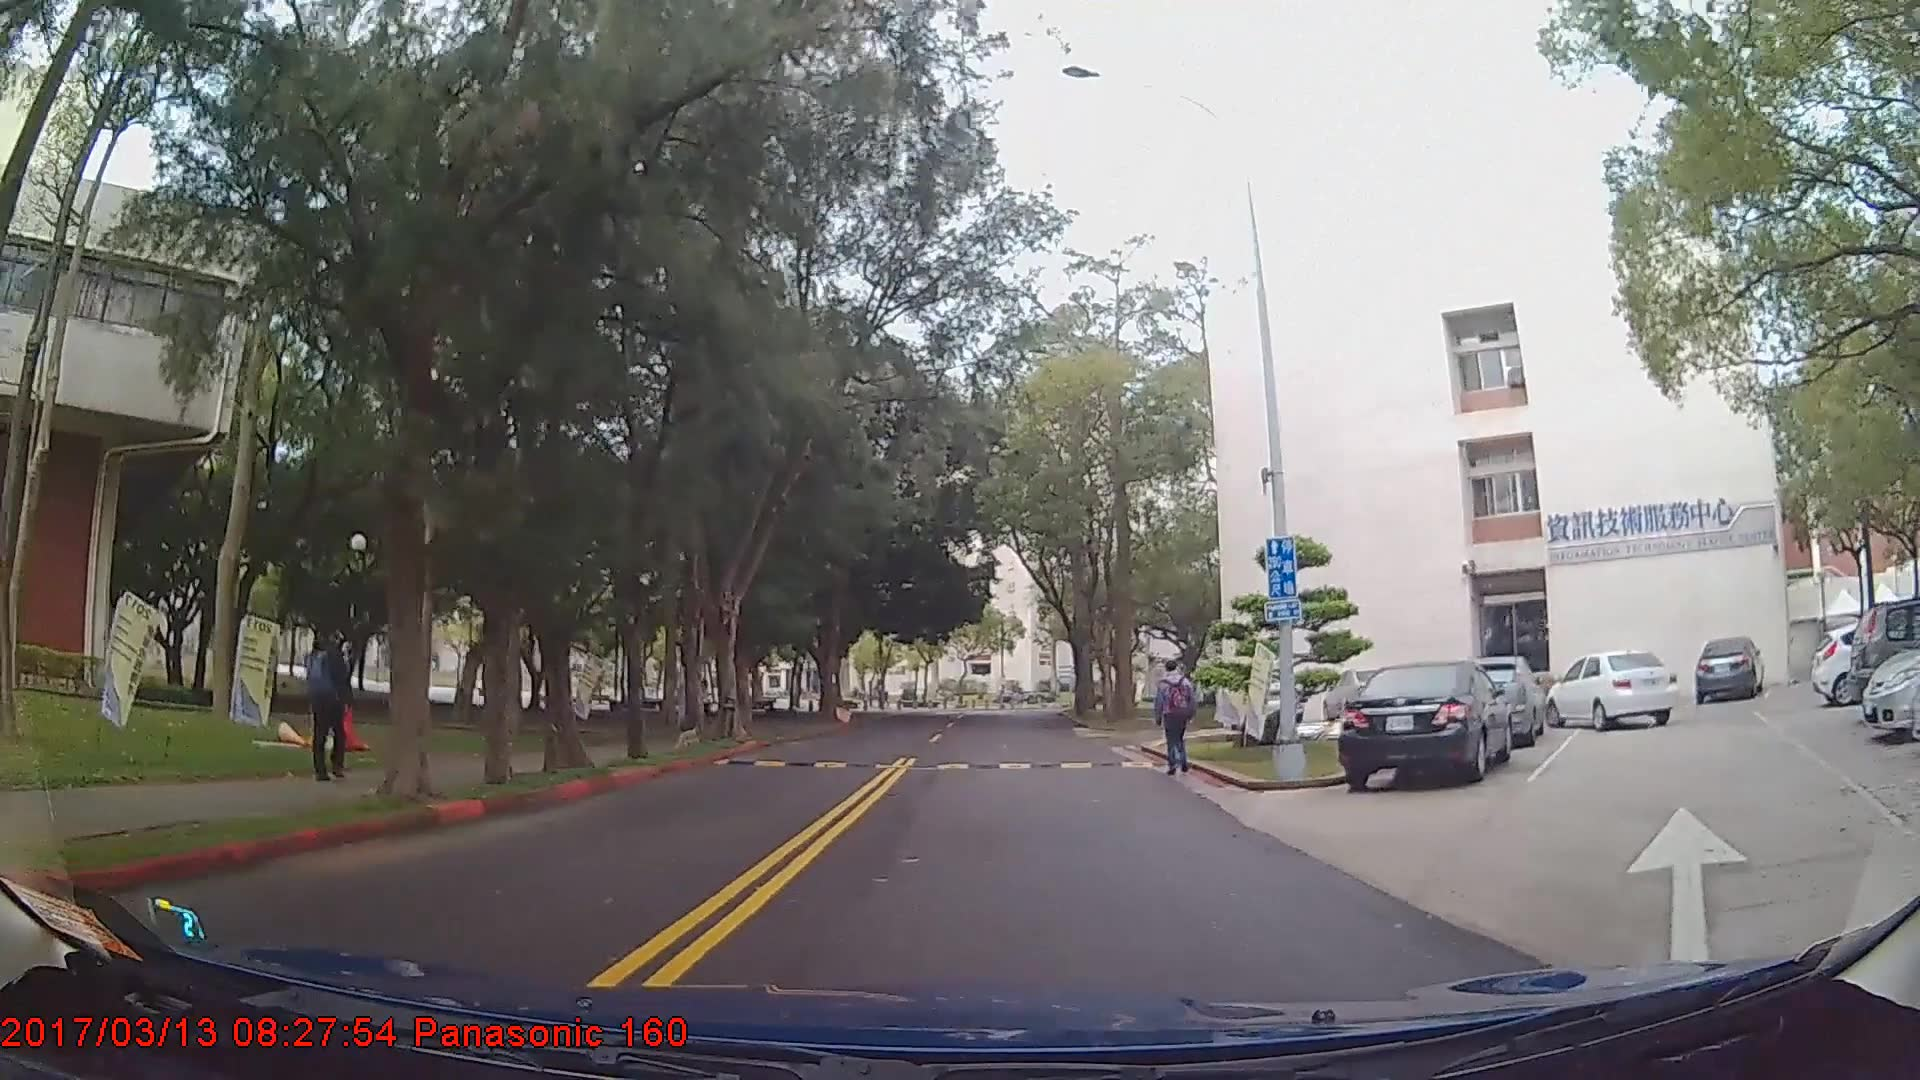pedestrian: (306, 617, 374, 787), (1158, 660, 1203, 782)
vehicle: (1339, 662, 1514, 795), (1548, 650, 1676, 731), (1845, 595, 1920, 713), (1693, 635, 1760, 707)
